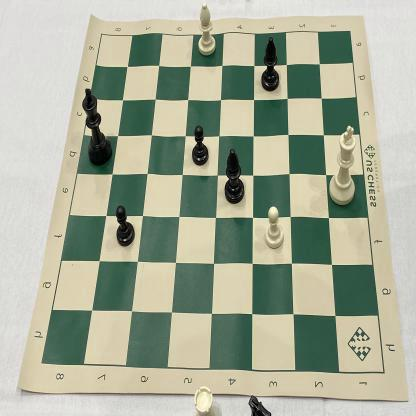black-bishop: (220, 142, 250, 209), (256, 34, 284, 98)
black-king: (78, 84, 116, 171)
black-pawn: (112, 199, 140, 252), (191, 121, 210, 170)
white-bishop: (194, 0, 220, 61)
white-king: (324, 121, 362, 209)
white-pawn: (263, 200, 287, 252)
